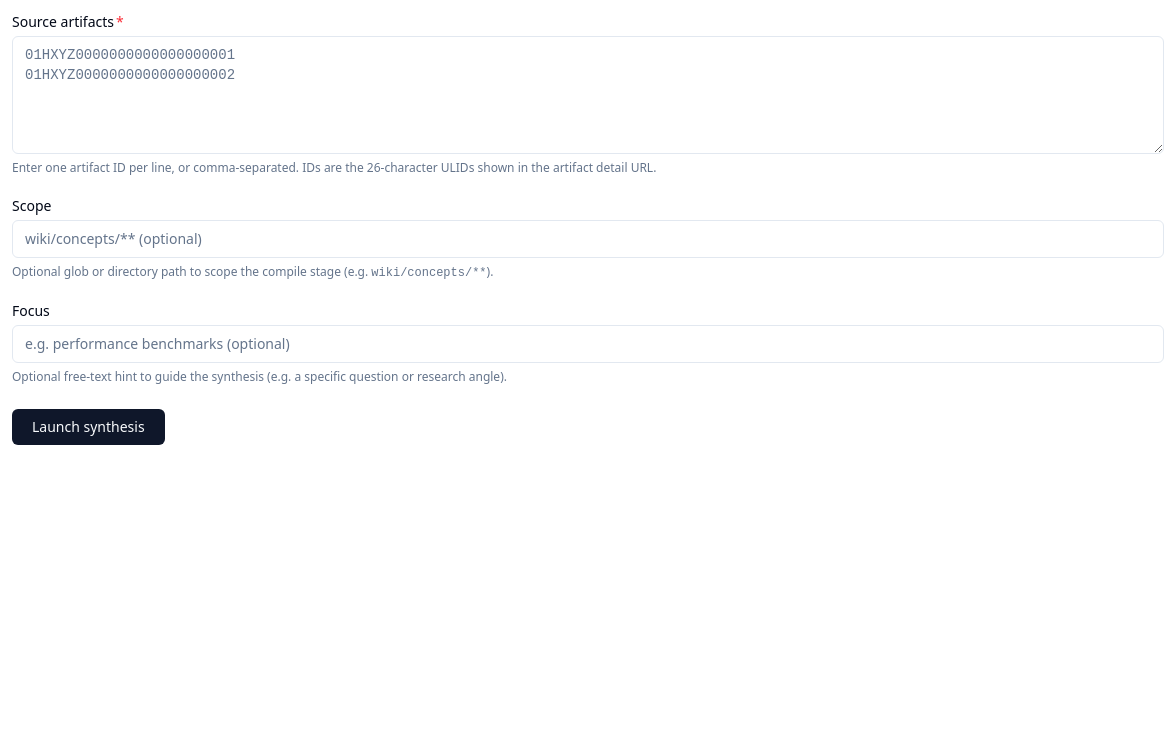
SynthesisBuilder error flow › shows a reset button after a POST error
Type "01HXYZ0000000000000000001" into the text box labelled "Source artifacts*".
click(588, 95); type("01HXYZ0000000000000000001")  # box [12,36,1164,154]
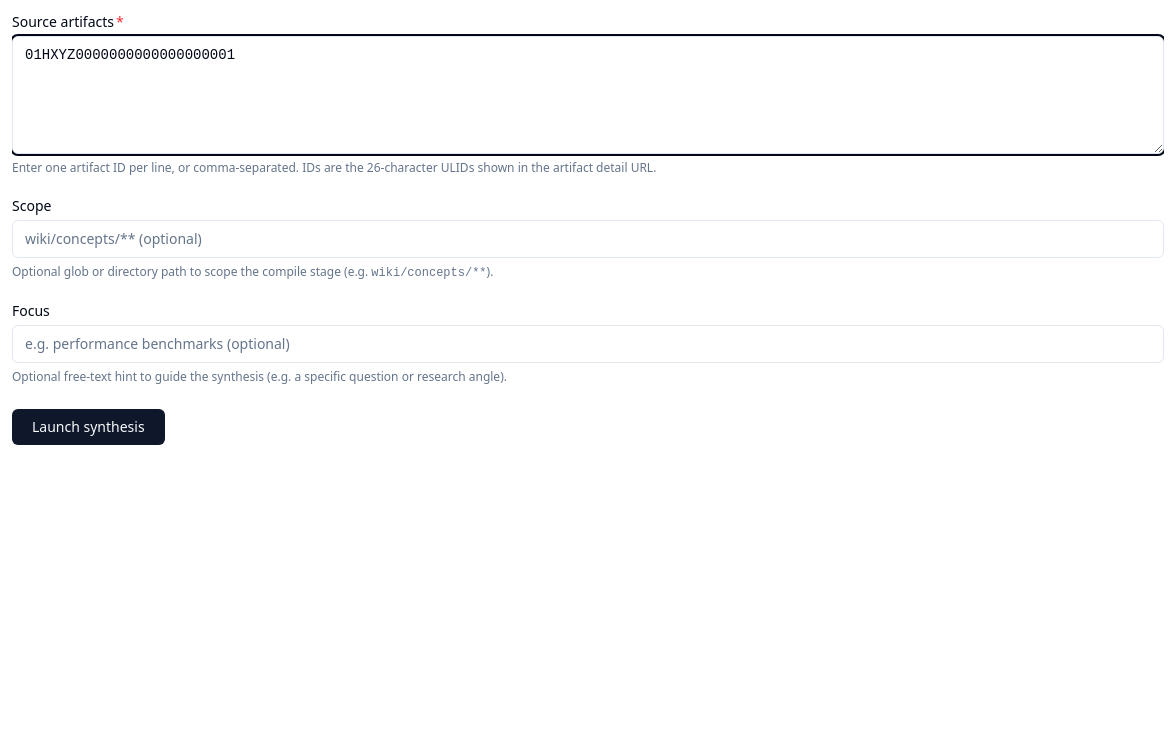
Click the button "Launch synthesis".
click(88, 427)  # box [12,409,165,445]
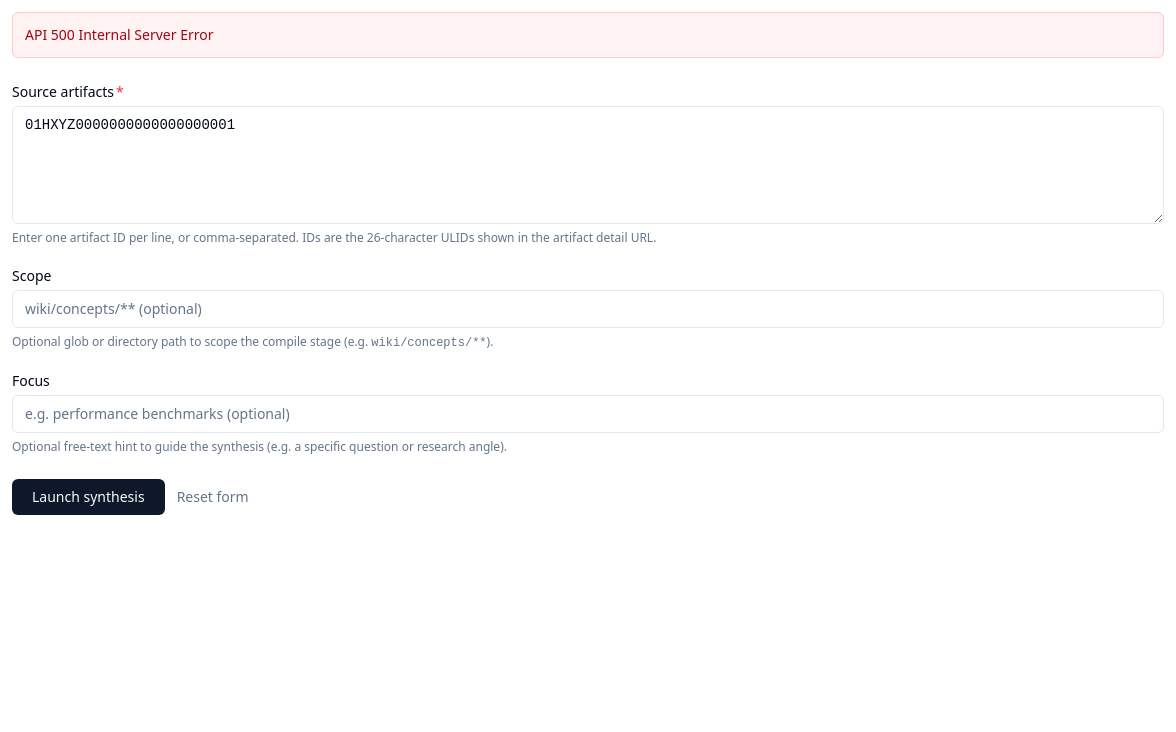
Expected: the button "Reset form" is shown, [177,487,249,507]
